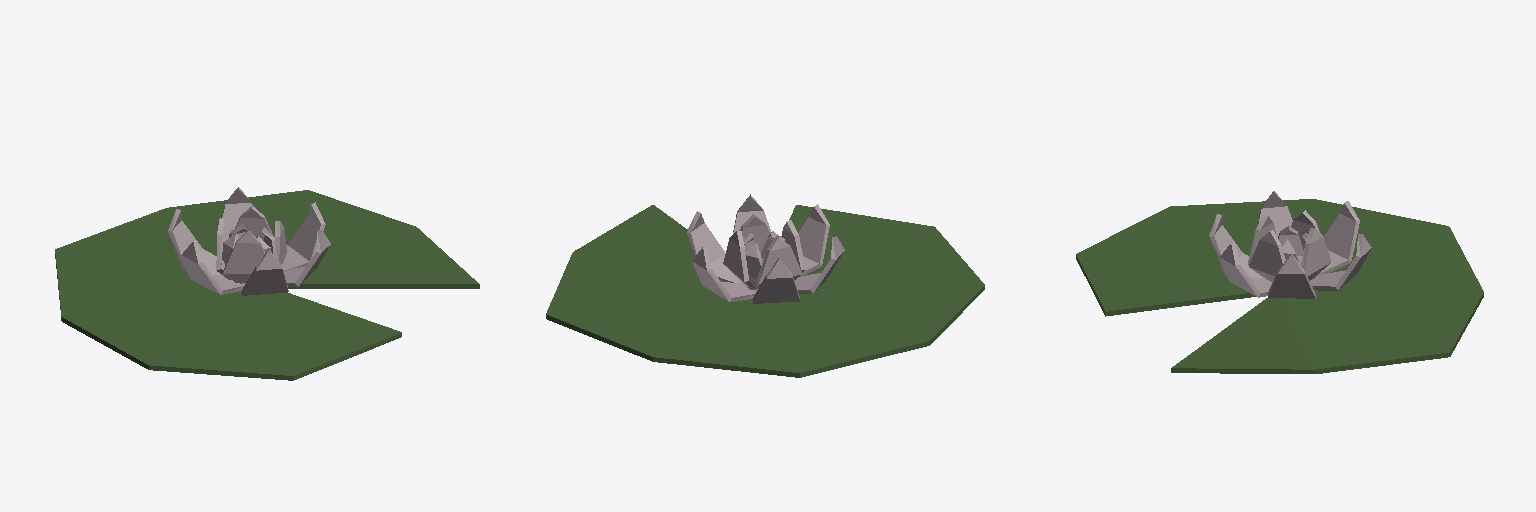
3 views of the same model, side by side, from view 1: azimuth 30°, elevation 25°; view 2: azimuth 150°, elevation 25°; view 3: azimuth 270°, elevation 25° (orthographic).
Parts seen in each view (by area): view 1: Lilypad; view 2: Lilypad; view 3: Lilypad.
Boxes of the visible parts, x1=… form: Lilypad: x1=55, y1=187, x2=479, y2=380; Lilypad: x1=546, y1=194, x2=984, y2=377; Lilypad: x1=1076, y1=191, x2=1483, y2=373.
Size of the model in its own units: 1.2 by 0.2209 by 1.19.
Materials: 2 (2 with a texture image).